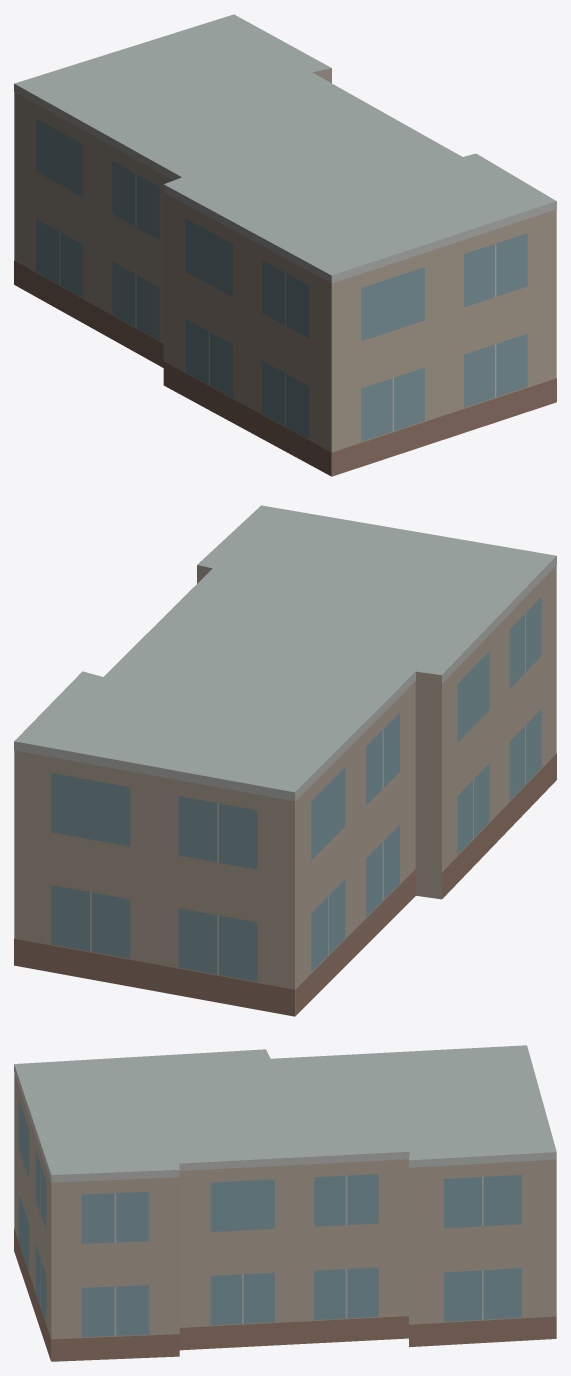
The model's file is survey-upis-32819563.glb.
3 renders of one model, top to bottom at view 1: azimuth 30°, elevation 25°; view 2: azimuth 150°, elevation 25°; view 3: azimuth 270°, elevation 25°, orthographic. The views are drawn at different scales.
Visible parts, largest first — view 1: survey-upis-32819563.tmp; view 2: survey-upis-32819563.tmp; view 3: survey-upis-32819563.tmp.
Part boxes in pixels (box(x1,y1,x2,y2)): survey-upis-32819563.tmp: box(14, 14, 556, 476); survey-upis-32819563.tmp: box(14, 505, 556, 1016); survey-upis-32819563.tmp: box(14, 1045, 556, 1361).
Size of the model in its own units: 9.11 by 6.1 by 16.08.
